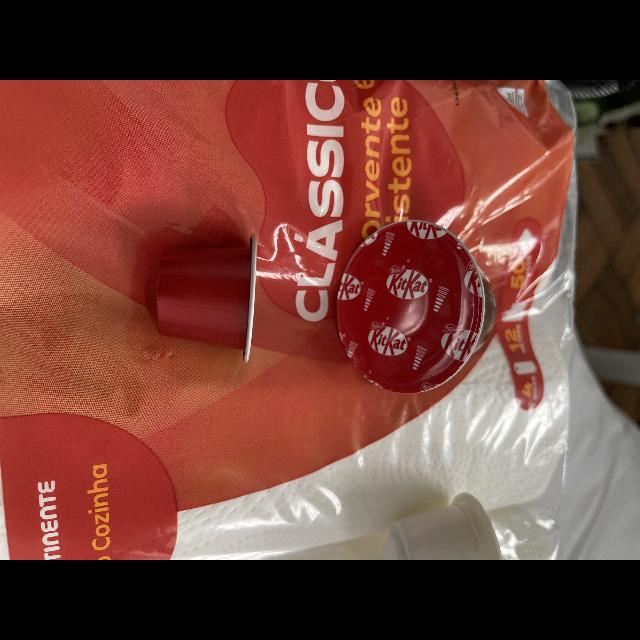intact_capsule: (326, 206, 504, 407), (130, 223, 268, 373)
